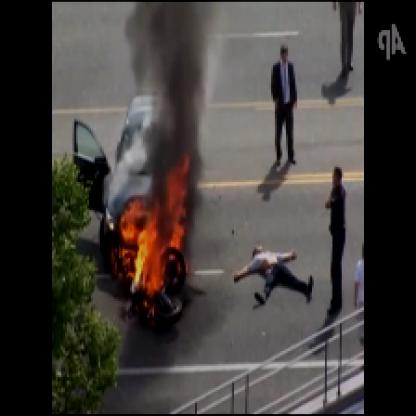Fire: (119, 162, 189, 302)
Smoke: (141, 2, 216, 215)
